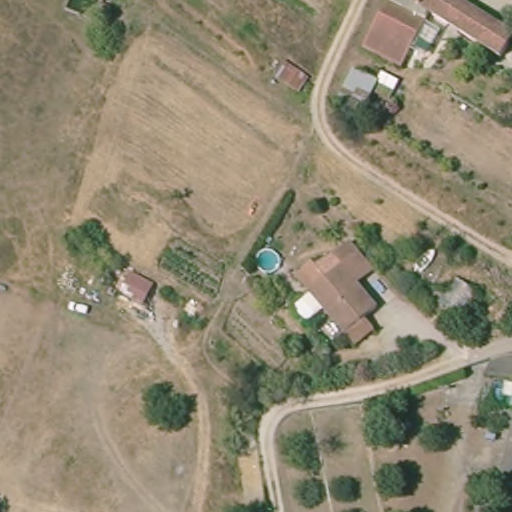pool: (253, 248, 284, 274)
